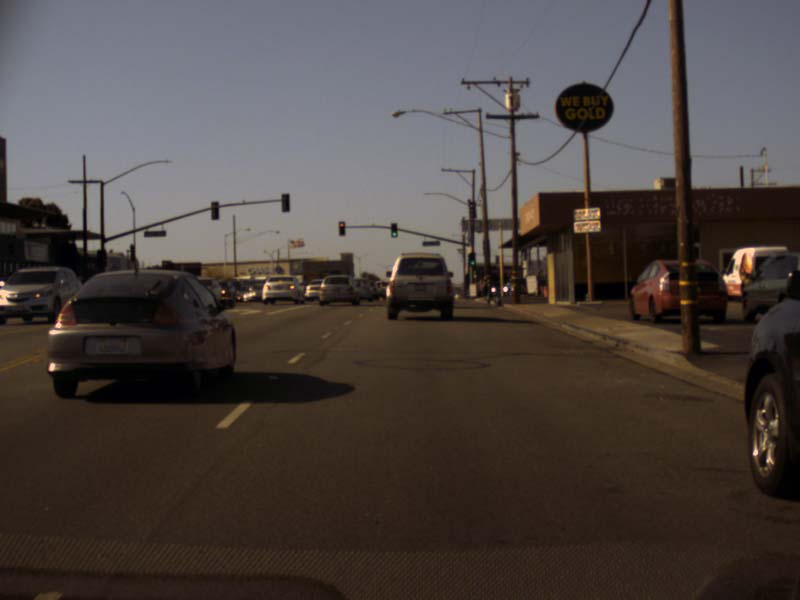Green: (390, 223, 397, 237), (468, 252, 475, 265)
Red: (338, 221, 345, 235)
